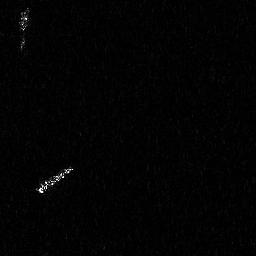ship: (33, 163, 75, 197), (19, 3, 30, 53)
